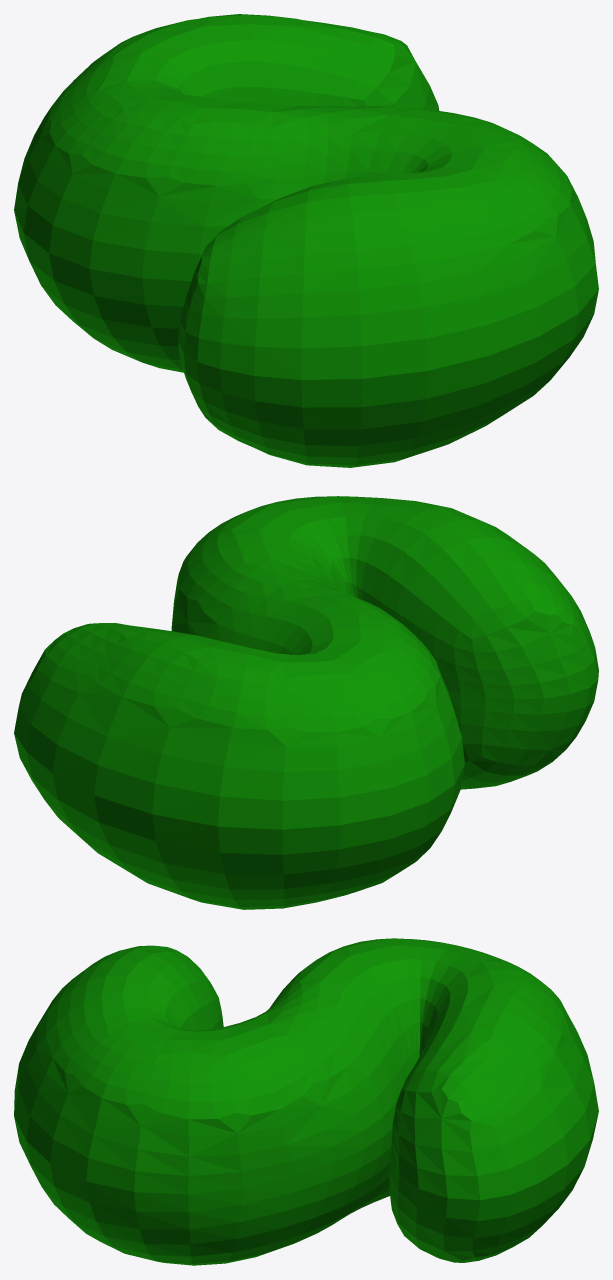
3 views of the same model, one above another, from view 1: azimuth 30°, elevation 25°; view 2: azimuth 150°, elevation 25°; view 3: azimuth 270°, elevation 25° (orthographic). The views are drawn at different scales.
Size of the model in its own units: 0.7247 by 0.4456 by 0.9587.
